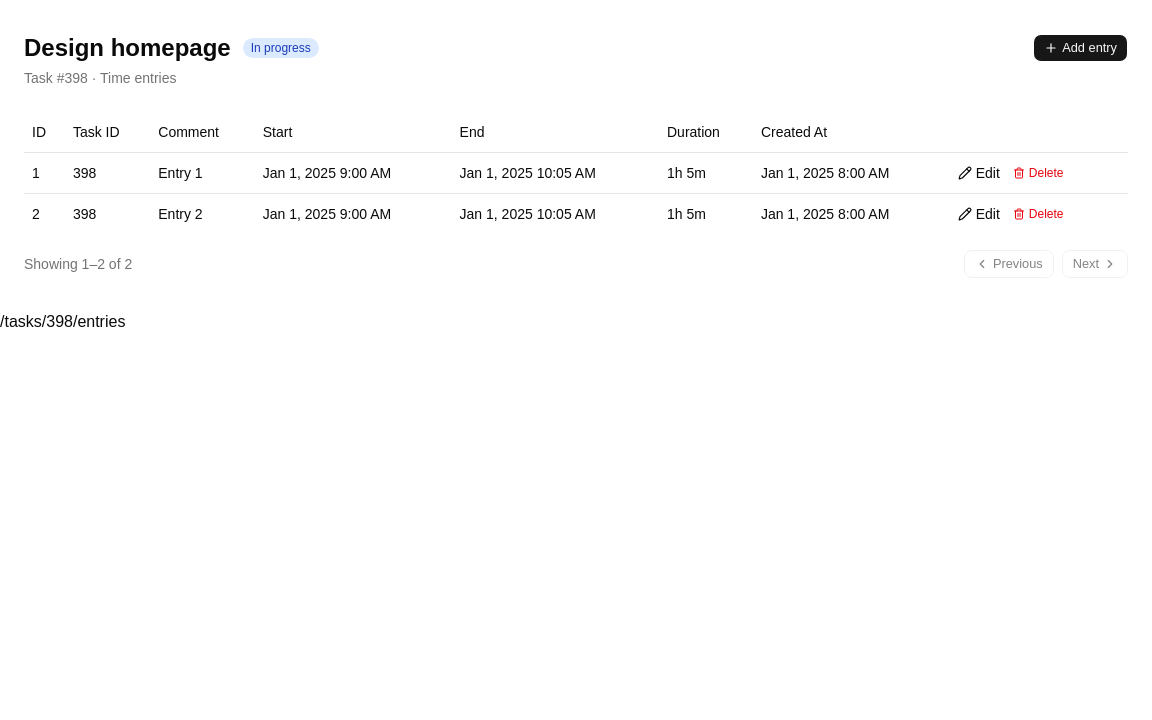
Test: TaskEntriesPage › deleting › asks first, and does nothing on cancel
Click the button named "Delete entry 1" at coordinates (1038, 172), box [1004,160,1072,184]
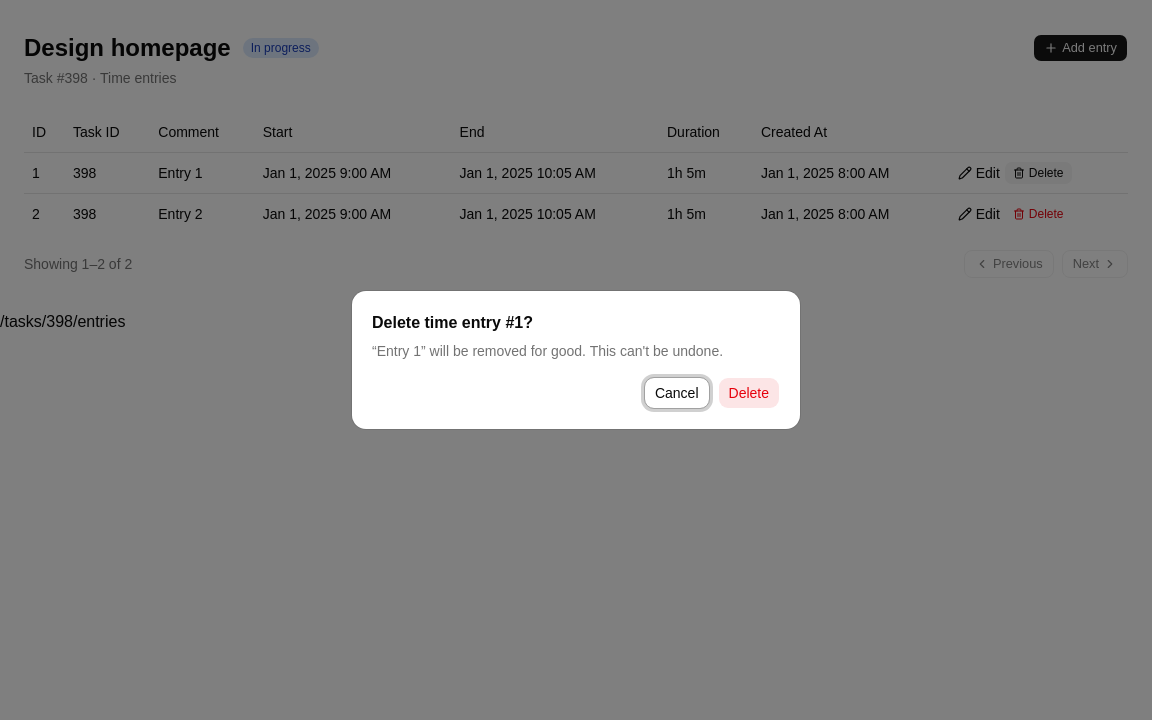
Now the dialog shows "Delete time entry #1?", box [372,314,514,331]
Now the dialog shows "“Entry 1” will be removed", box [352,291,800,429]
Click the button "Cancel" at coordinates (677, 393), box [644,377,710,409]
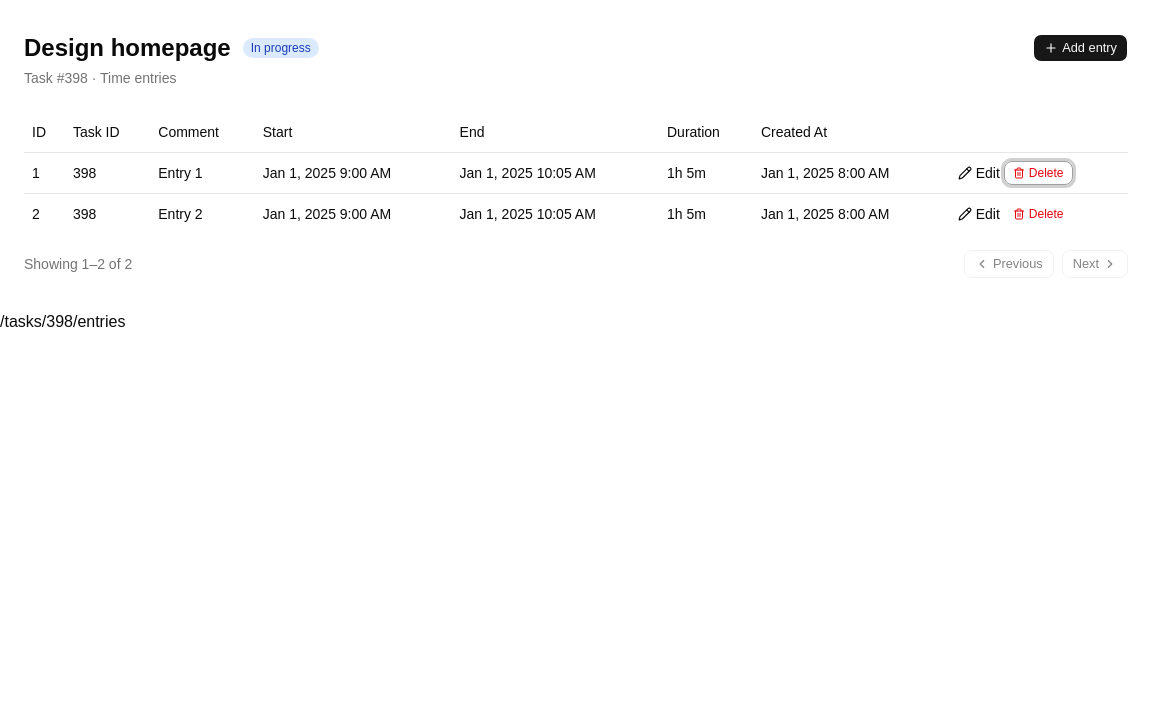
Expected: the number of rows is 3, [24,112,1128,152]; [24,152,1128,193]; [24,193,1128,234]
Now the dialog is gone
